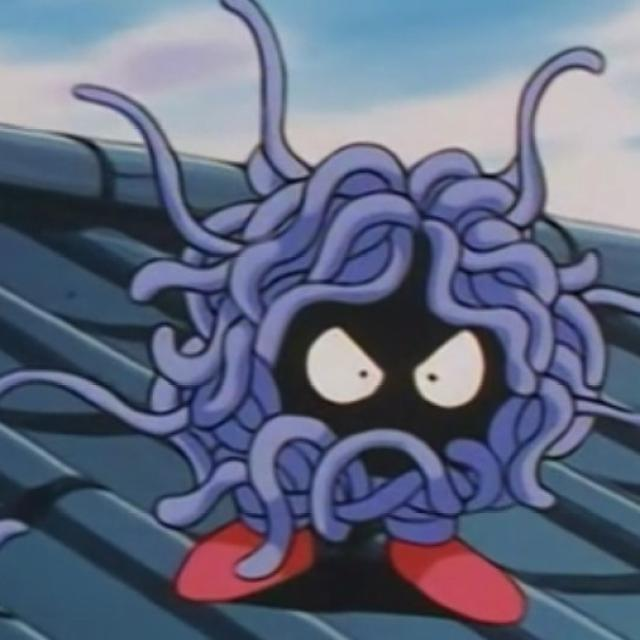Tangela: (86, 98, 628, 629)
